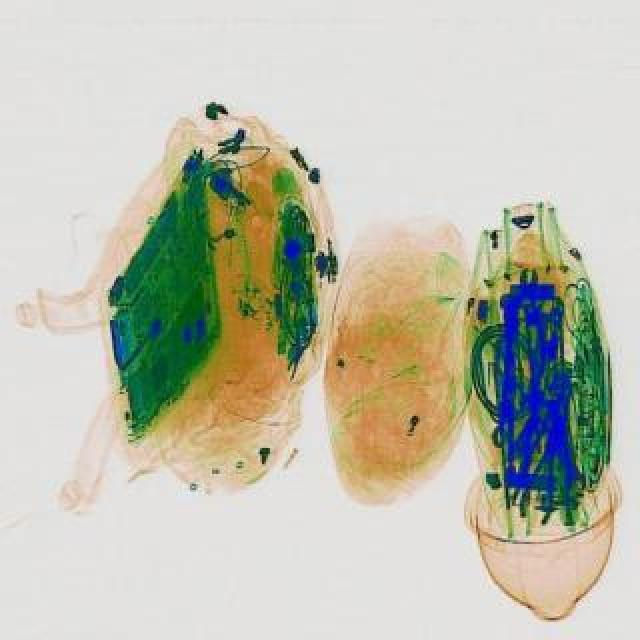wrench: (518, 422, 570, 522)
